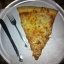pizza: (17, 5, 55, 59)
